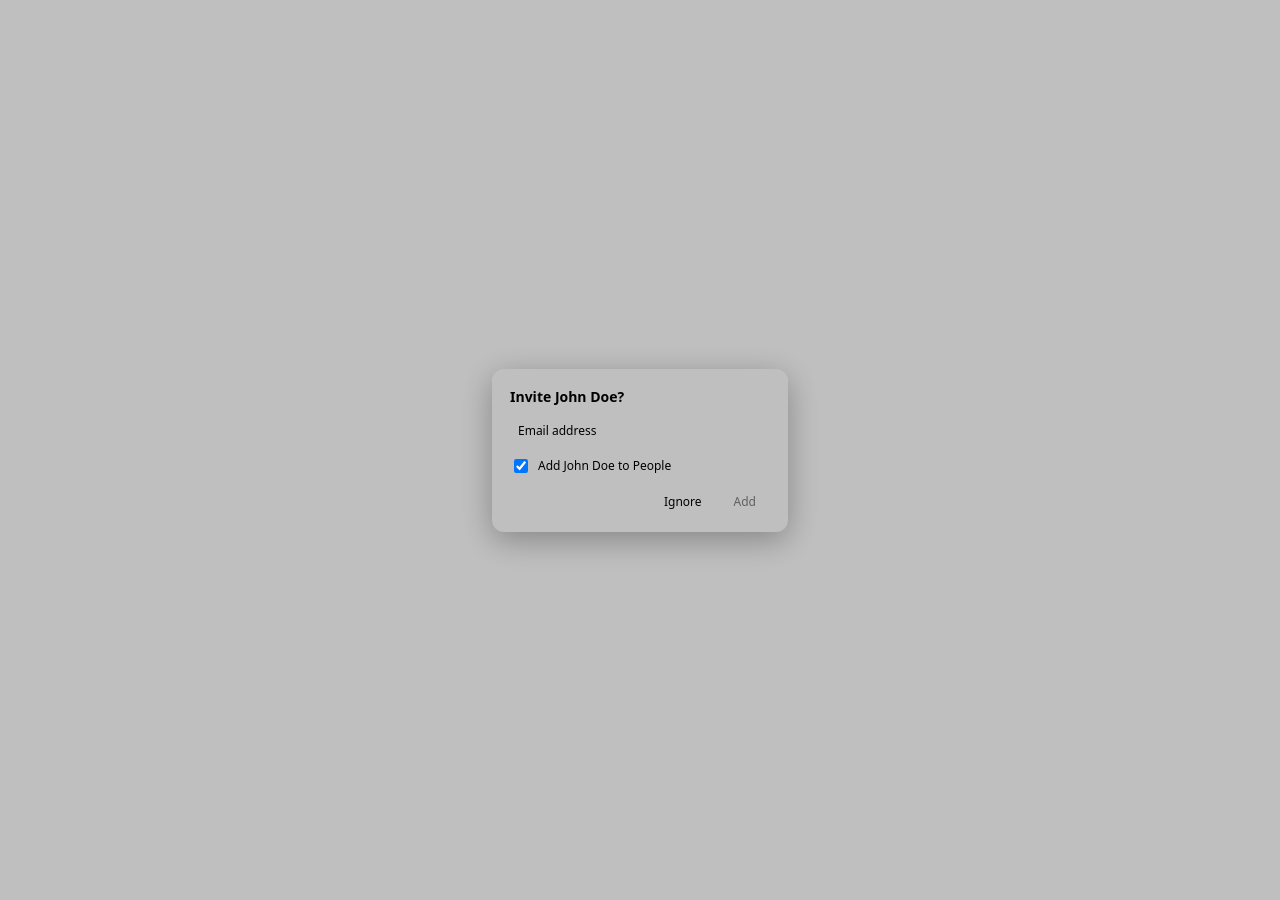
Test case: UnknownPersonModal › Add button enables after typing an email
Type "john@example.com" into the field with placeholder "Email address" at (640, 430), box [510,416,770,446]
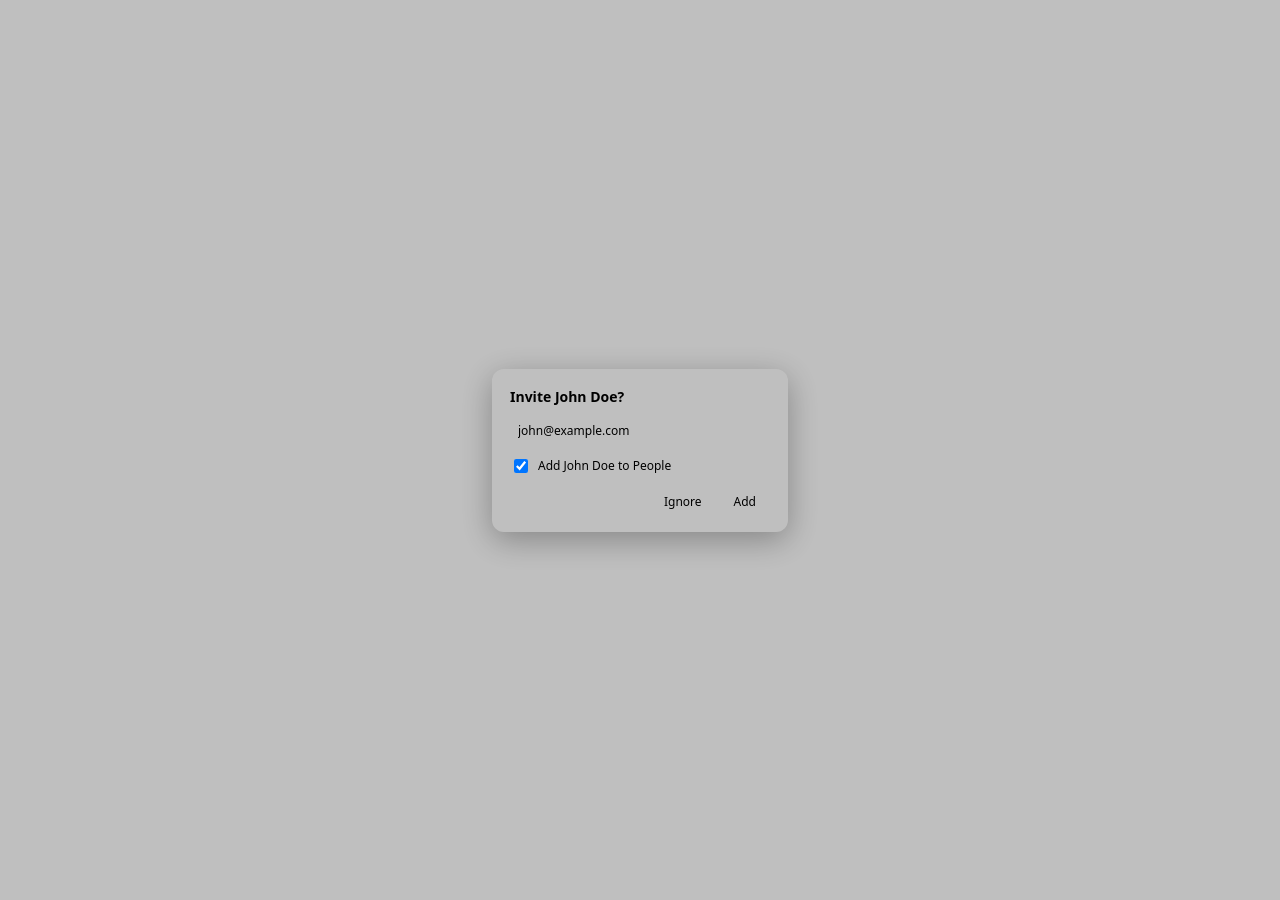
Check: the button "Add" is enabled, box [720,488,770,516]
